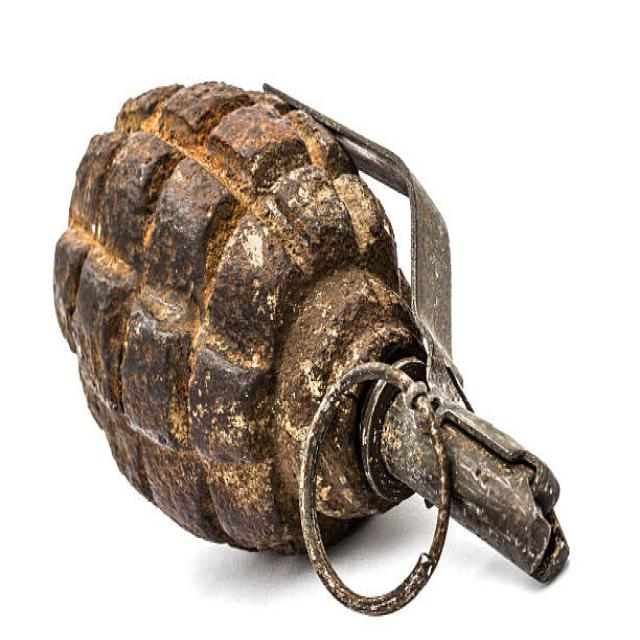grenade: (44, 54, 590, 633)
